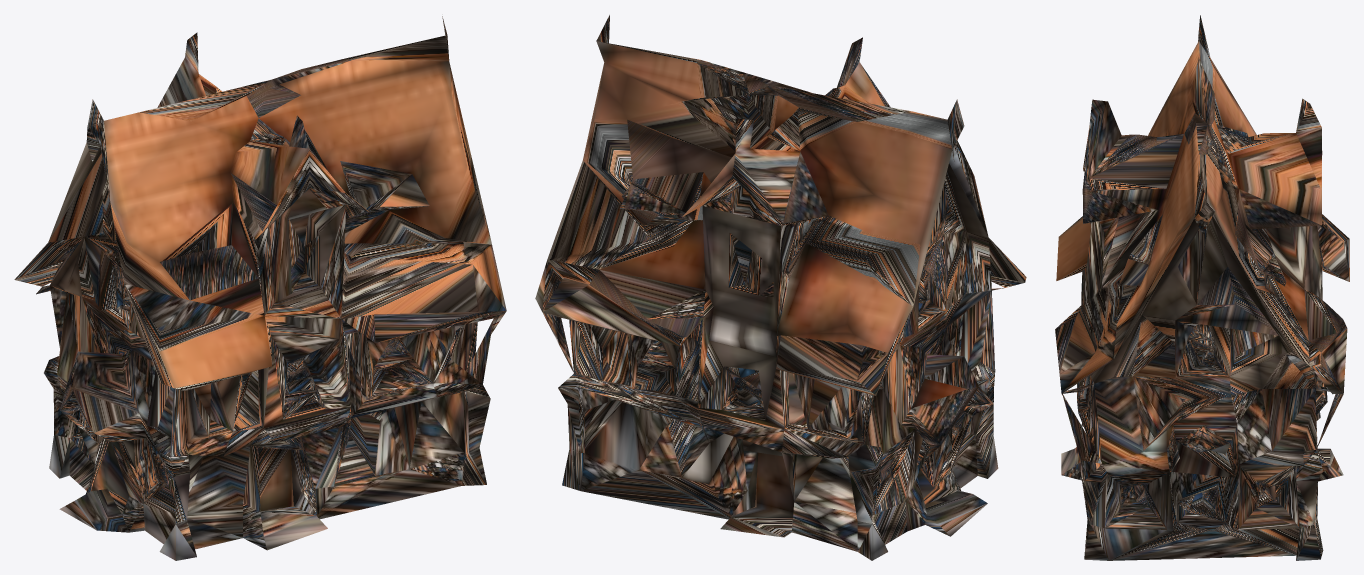
Rendered from Medieval_Cottage.glb.
3 renders of one model, left to right at view 1: azimuth 30°, elevation 25°; view 2: azimuth 150°, elevation 25°; view 3: azimuth 270°, elevation 25°, orthographic. The views are drawn at different scales.
Parts seen in each view (by area): view 1: Medieval_Cottage; view 2: Medieval_Cottage; view 3: Medieval_Cottage.
Boxes of the visible parts, bbox=[...] form: Medieval_Cottage: bbox=[14, 16, 506, 560]; Medieval_Cottage: bbox=[535, 15, 1026, 560]; Medieval_Cottage: bbox=[1055, 15, 1349, 560].
Bounding box in the file's own units: 1.88 × 2 × 1.35.
Materials: 1 (1 with a texture image).
